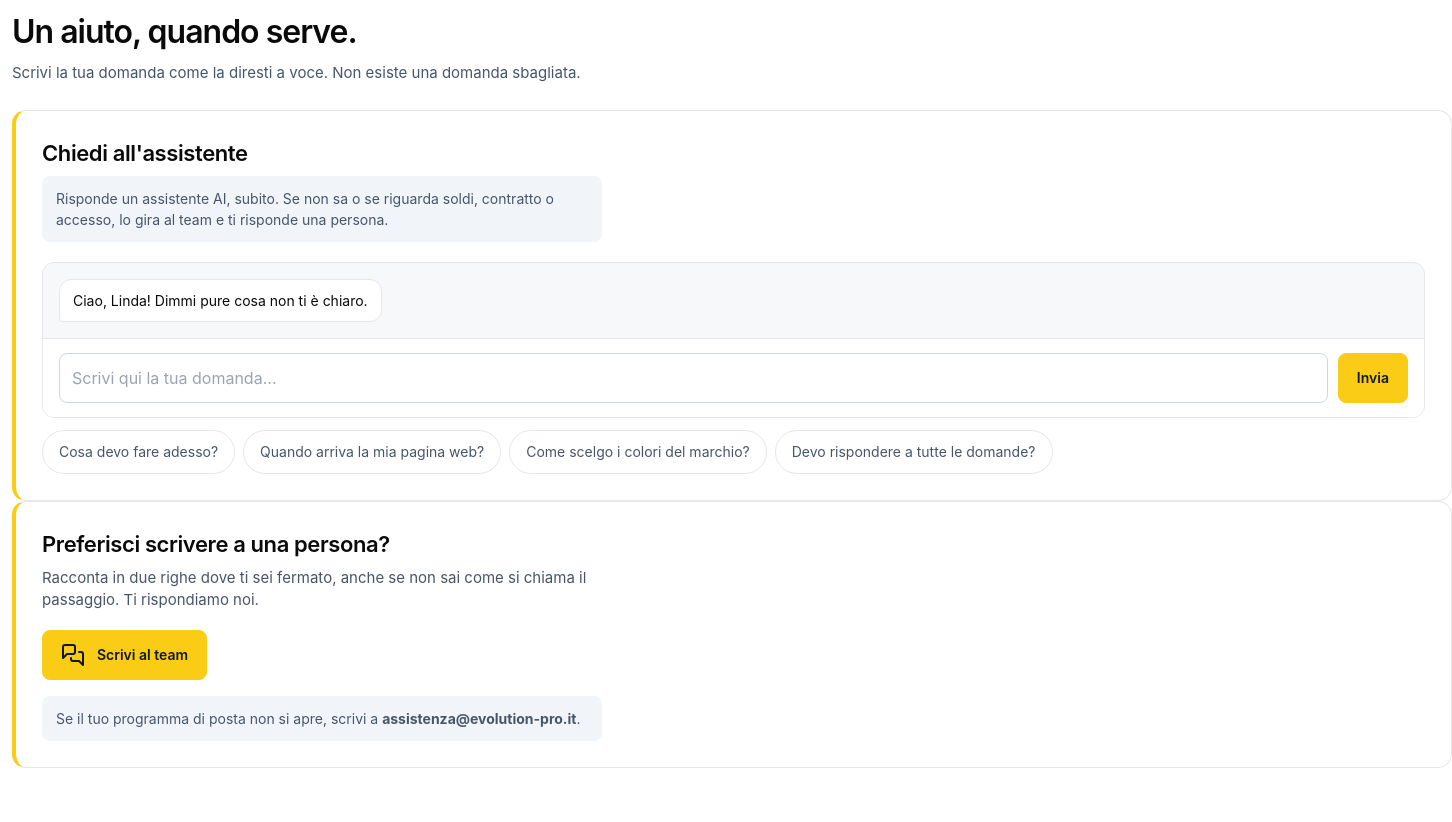
Test: un esempio a un tocco invia quella domanda
Click the button "Cosa devo fare adesso?" at (139, 452), box [42,430,235,474]
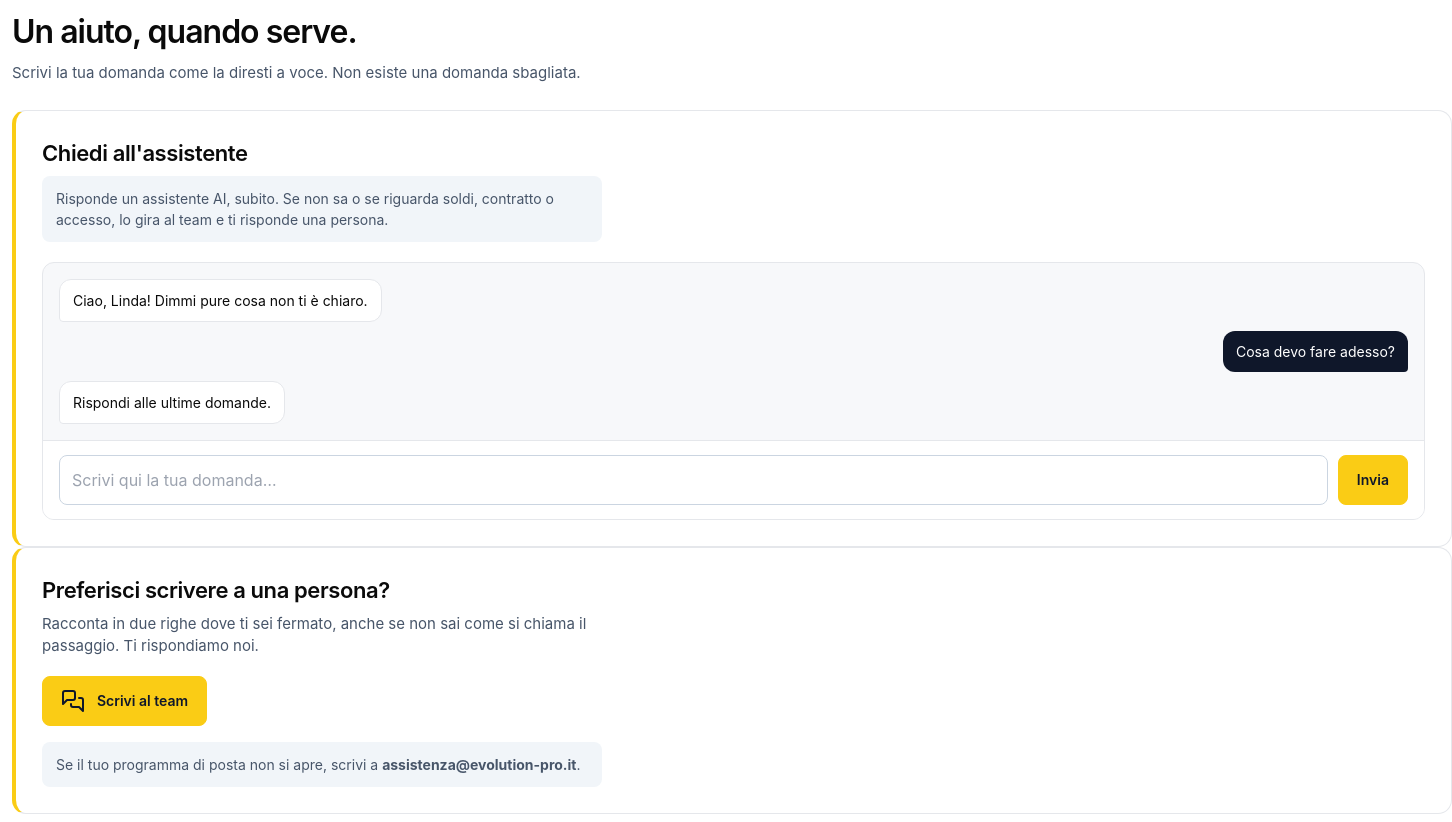
Expected: the text "Cosa devo fare adesso?" is shown, [1223,330,1408,372]
Expected: the text "Rispondi alle ultime domande." is shown, [59,380,285,424]
